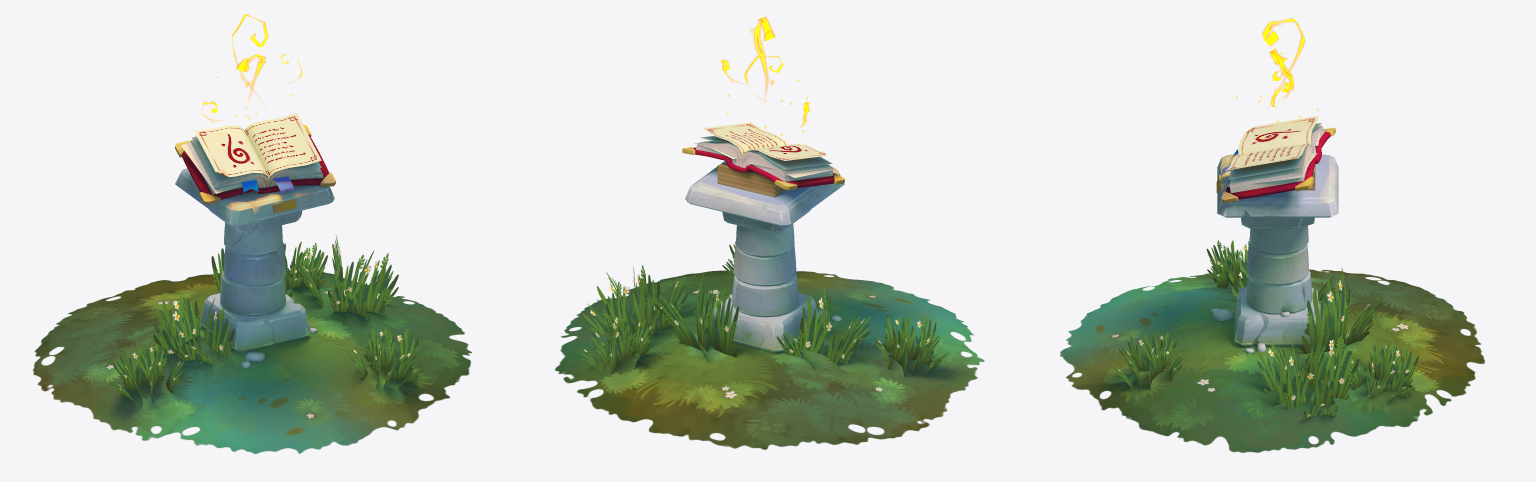
3 renders of one model, left to right at view 1: azimuth 30°, elevation 25°; view 2: azimuth 150°, elevation 25°; view 3: azimuth 270°, elevation 25°, orthographic.
Parts seen in each view (by area): view 1: Ground_21, GrassTufts_23, BookPaper.002_3, ColumnBase_12, ColumnSurface_17, ColumnSection.002_15, ColumnSection.003_16, ColumnSection.001_14, BookCover_0, BookPaper_1, Effect_19, ColumnBase.001_13 (+3 smaller); view 2: Ground_21, GrassTufts_23, ColumnSurface_17, ColumnBase_12, BookPaper.002_3, ColumnSection.002_15, ColumnSection.003_16, BookPaper_1, ColumnSection.001_14, BookSupport_5, Effect_19, BookCover_0 (+2 smaller); view 3: Ground_21, GrassTufts_23, ColumnSurface_17, ColumnBase_12, BookPaper.002_3, ColumnSection.002_15, ColumnSection.003_16, BookPaper_1, ColumnSection.001_14, Effect_19, BookCover_0, BookPaper.001_2 (+1 smaller).
Part boxes in pixels (box(x1,y1,x2,y2)): Ground_21: box(33, 270, 471, 453); GrassTufts_23: box(110, 234, 423, 405); BookPaper.002_3: box(194, 113, 321, 181); ColumnBase_12: box(200, 293, 310, 352); ColumnSurface_17: box(175, 168, 334, 225); ColumnSection.002_15: box(220, 271, 285, 315); ColumnSection.003_16: box(224, 242, 285, 285); ColumnSection.001_14: box(224, 222, 282, 255); BookCover_0: box(182, 134, 328, 199); BookPaper_1: box(190, 140, 323, 194); Effect_19: box(201, 14, 302, 122); ColumnBase.001_13: box(208, 209, 301, 233); Ground_21: box(555, 270, 984, 449); GrassTufts_23: box(581, 241, 948, 376); ColumnSurface_17: box(685, 160, 844, 225); ColumnBase_12: box(713, 293, 818, 352); BookPaper.002_3: box(703, 122, 826, 160); ColumnSection.002_15: box(732, 274, 798, 316); ColumnSection.003_16: box(733, 244, 796, 285); BookPaper_1: box(695, 141, 832, 181); ColumnSection.001_14: box(736, 224, 794, 256); BookSupport_5: box(717, 163, 785, 197); Effect_19: box(721, 17, 810, 127); BookCover_0: box(693, 147, 834, 187); Ground_21: box(1060, 269, 1484, 452); GrassTufts_23: box(1112, 239, 1418, 419); ColumnSurface_17: box(1217, 154, 1338, 217); ColumnBase_12: box(1234, 286, 1320, 346); BookPaper.002_3: box(1226, 115, 1318, 170); ColumnSection.002_15: box(1246, 271, 1312, 313); ColumnSection.003_16: box(1247, 242, 1308, 284); BookPaper_1: box(1229, 126, 1324, 193); ColumnSection.001_14: box(1249, 225, 1308, 254); Effect_19: box(1262, 18, 1305, 107); BookCover_0: box(1226, 132, 1330, 199); BookPaper.001_2: box(1228, 123, 1320, 179).
Size of the model in its own units: 4.95 by 3.93 by 4.95.
Materials: 3 (3 with a texture image).
